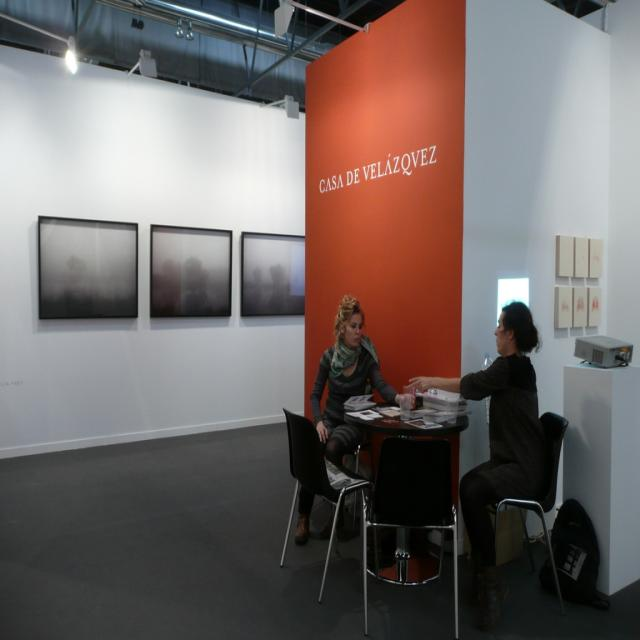chair: (362, 436, 458, 639), (278, 408, 371, 600), (494, 412, 568, 610)
desk: (343, 399, 470, 586)
person: (408, 300, 545, 619), (309, 293, 407, 479)
tv: (36, 217, 138, 331), (241, 232, 306, 320)
